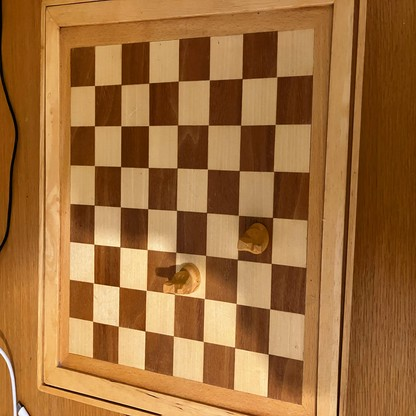knight_white: (163, 264, 200, 295), (238, 222, 268, 254)
